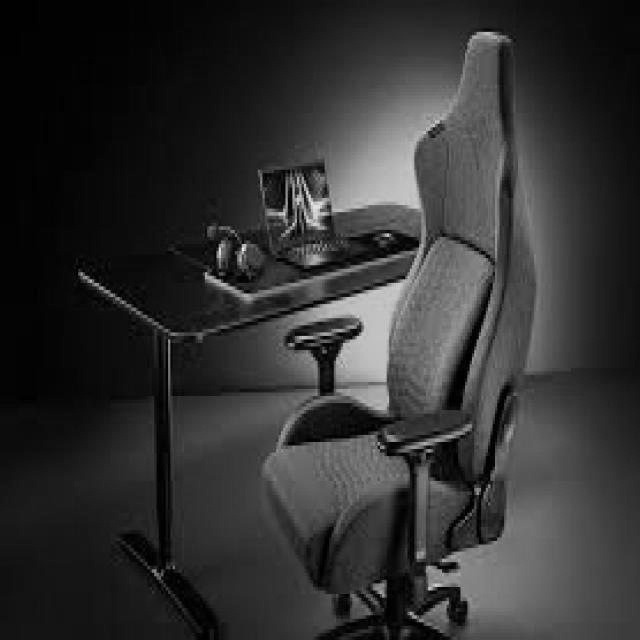chair: (262, 29, 542, 640)
